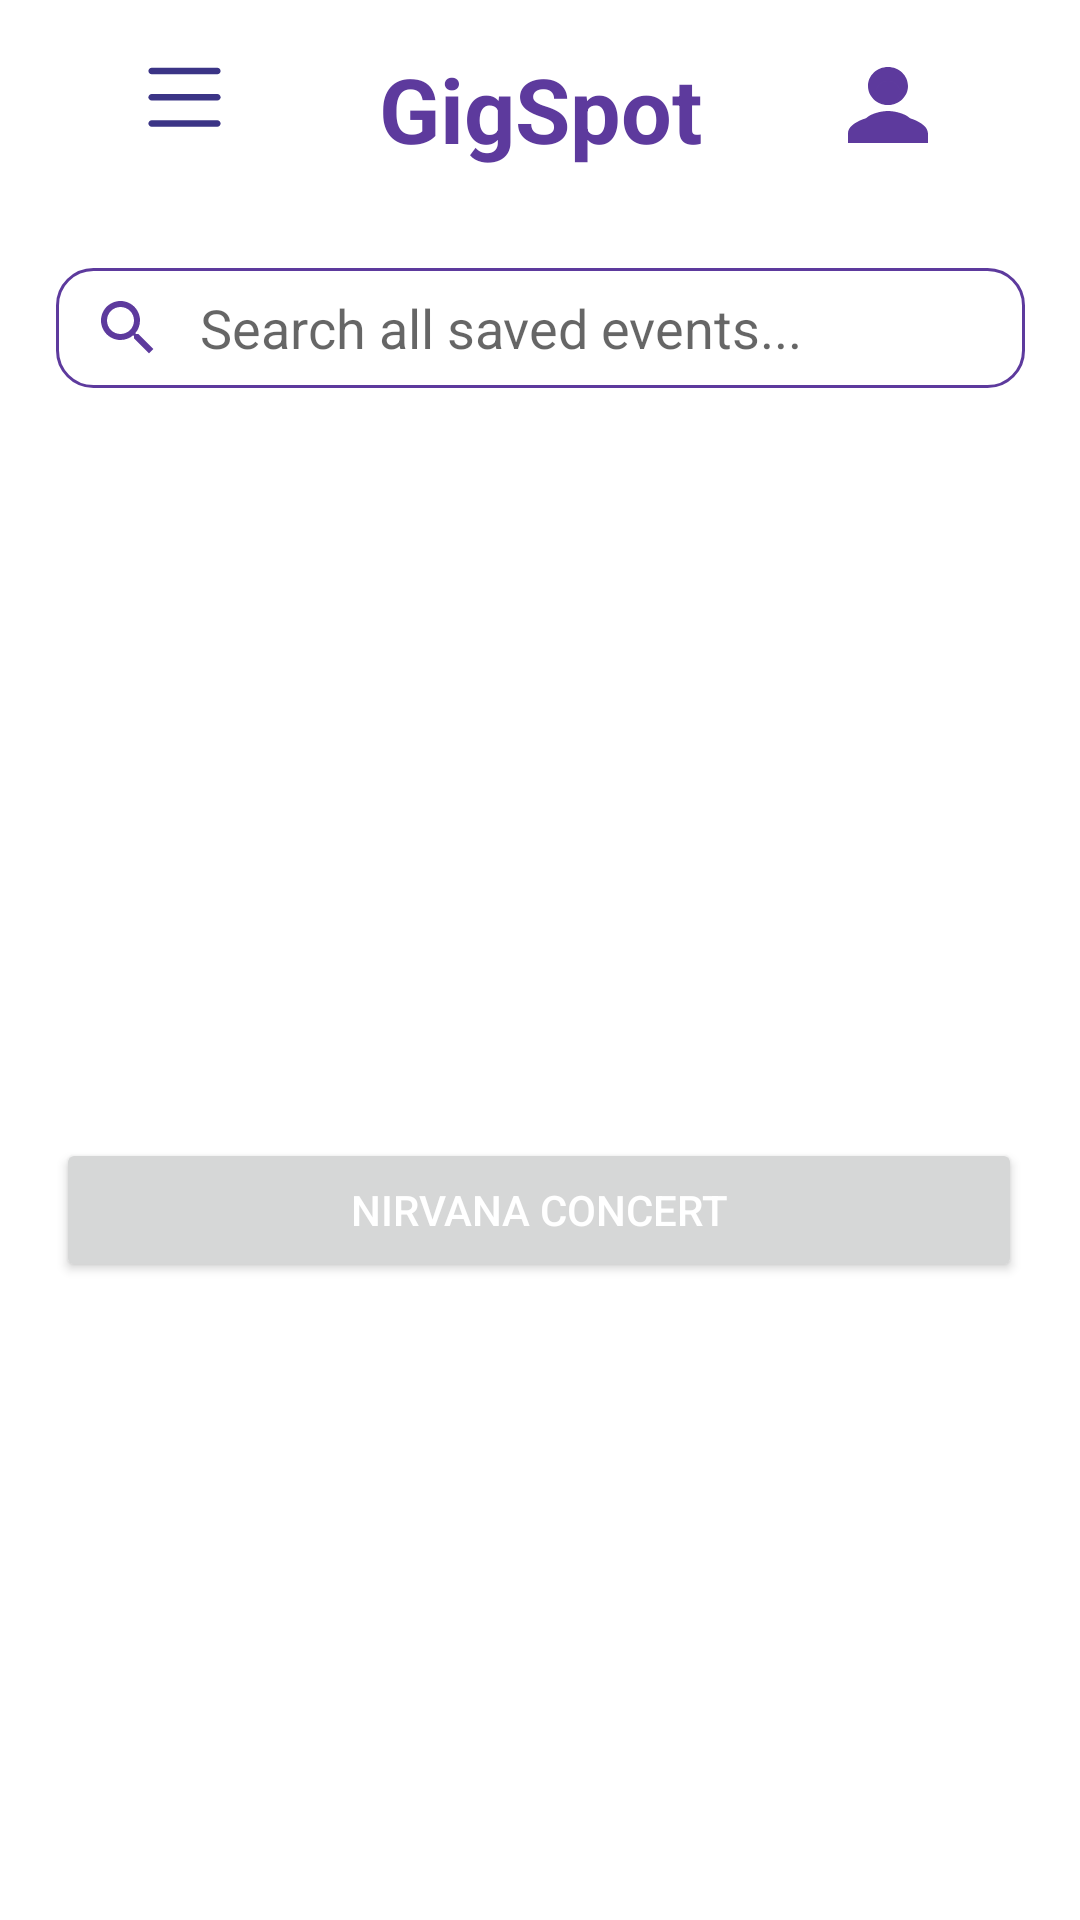

Screen size 1080x1920. Icon name, then its box in pixels as [x1,y1,x2,y2]:
list: [148,67,221,127]
profile: [848,67,928,143]
